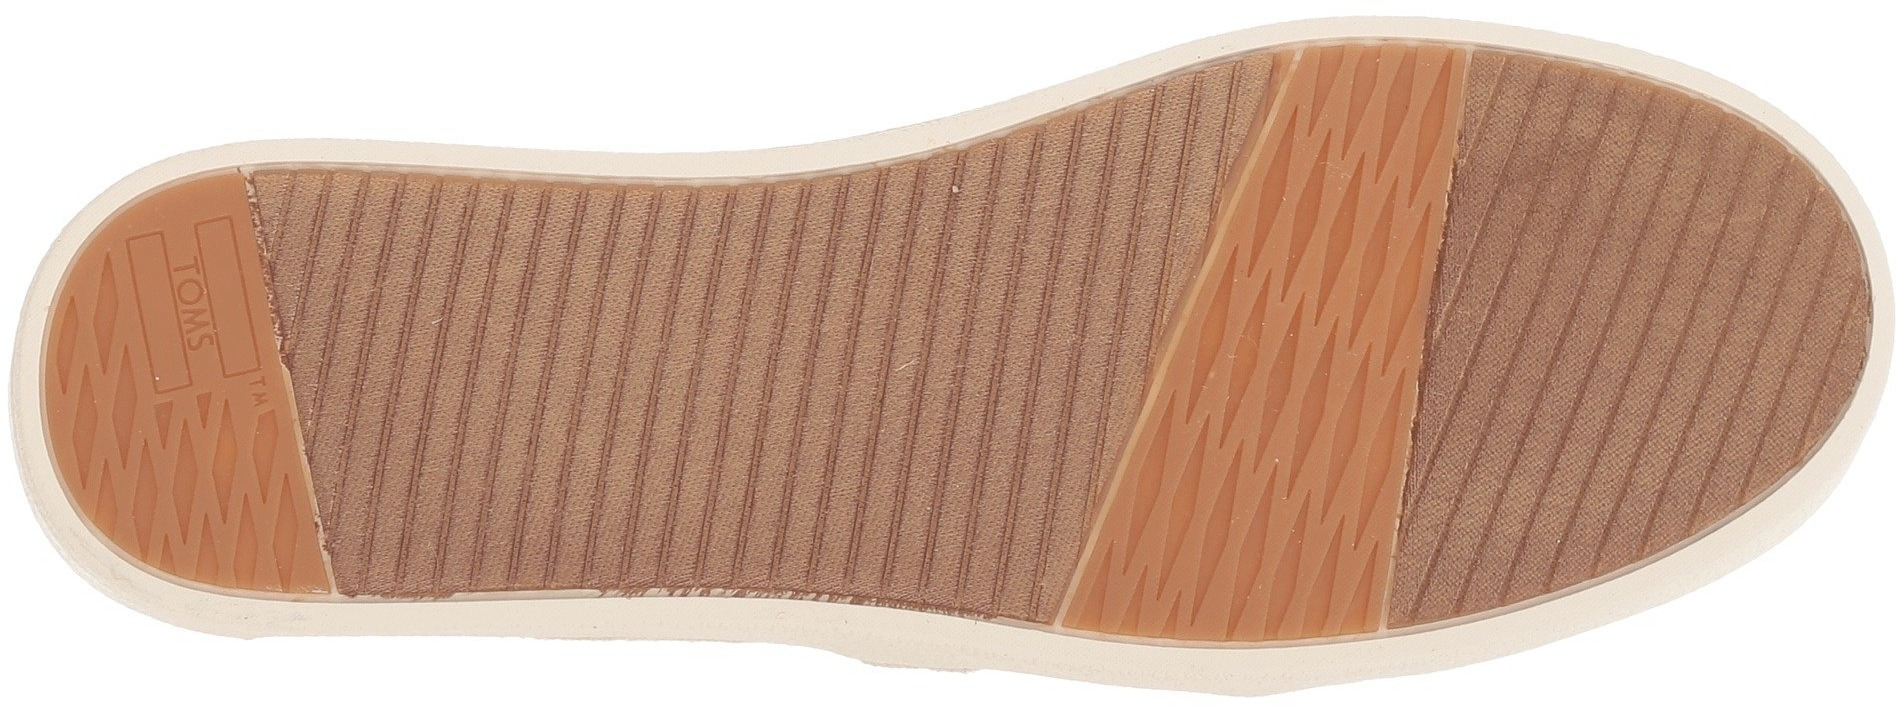line: (849, 173, 1115, 453), (575, 196, 844, 447), (304, 175, 564, 434), (1436, 331, 1672, 559), (1152, 399, 1386, 625), (1469, 108, 1691, 319), (1222, 219, 1413, 398), (374, 436, 548, 591), (901, 457, 1043, 610), (1676, 330, 1806, 463), (1120, 97, 1221, 212)
quad: (1212, 241, 1413, 633)
